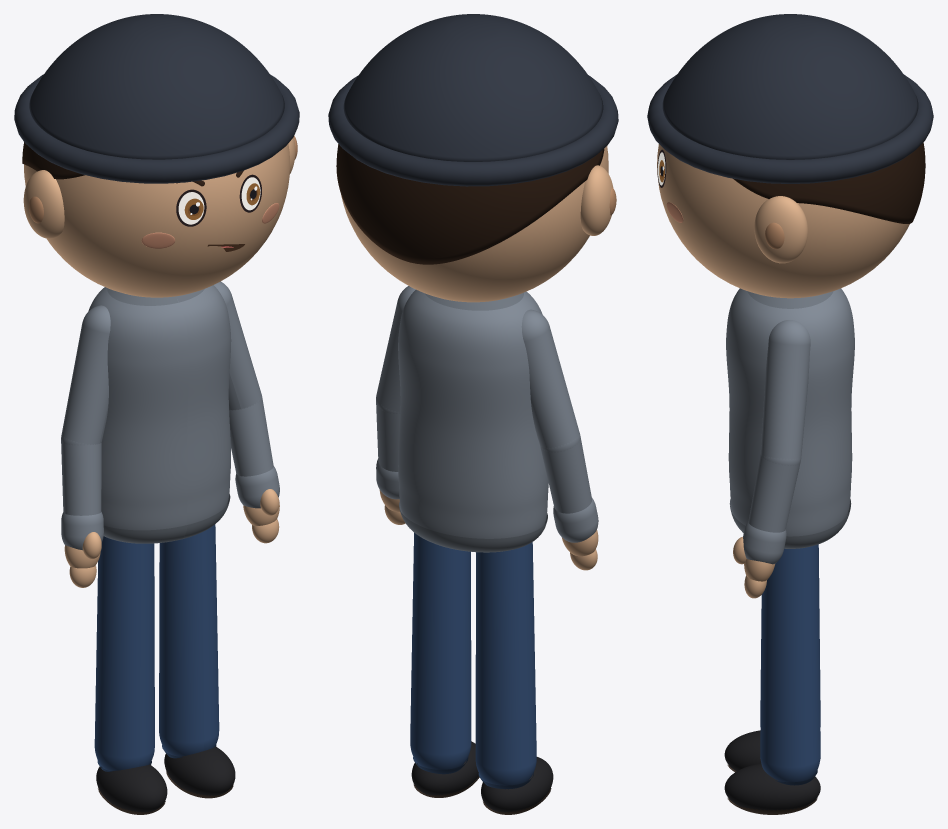
Rendered from volgeling_a.glb.
3 renders of one model, left to right at view 1: azimuth 30°, elevation 25°; view 2: azimuth 150°, elevation 25°; view 3: azimuth 270°, elevation 25°, orthographic.
Parts seen in each view (by area): view 1: volgeling_a_romp, volgeling_a_muts, volgeling_a_hoofd, volgeling_a_been_R, volgeling_a_been_L, volgeling_a_muts_rand, volgeling_a_bovenarm_R, volgeling_a_onderarm_R, volgeling_a_onderarm_L, volgeling_a_schoen_R, volgeling_a_schoen_L, volgeling_a_bovenarm_L (+6 smaller); view 2: volgeling_a_romp, volgeling_a_muts, volgeling_a_haar, volgeling_a_been_R, volgeling_a_been_L, volgeling_a_hoofd, volgeling_a_muts_rand, volgeling_a_bovenarm_R, volgeling_a_onderarm_R, volgeling_a_schoen_R, volgeling_a_romp_boord, volgeling_a_bovenarm_L (+6 smaller); view 3: volgeling_a_muts, volgeling_a_romp, volgeling_a_hoofd, volgeling_a_been_L, volgeling_a_muts_rand, volgeling_a_haar, volgeling_a_bovenarm_L, volgeling_a_schoen_L, volgeling_a_onderarm_L, volgeling_a_oor_L, volgeling_a_manchet_L, volgeling_a_schoen_R (+3 smaller).
Part boxes in pixels (x1,y1,x2,y2): volgeling_a_romp: [88, 285, 231, 530]; volgeling_a_muts: [29, 14, 284, 159]; volgeling_a_hoofd: [24, 144, 289, 297]; volgeling_a_been_R: [94, 536, 154, 770]; volgeling_a_been_L: [159, 524, 219, 756]; volgeling_a_muts_rand: [14, 74, 299, 183]; volgeling_a_bovenarm_R: [61, 305, 110, 444]; volgeling_a_onderarm_R: [61, 439, 101, 515]; volgeling_a_onderarm_L: [229, 398, 273, 476]; volgeling_a_schoen_R: [96, 764, 167, 812]; volgeling_a_schoen_L: [164, 746, 235, 795]; volgeling_a_bovenarm_L: [214, 281, 261, 410]; volgeling_a_romp: [398, 289, 548, 538]; volgeling_a_muts: [343, 14, 603, 161]; volgeling_a_haar: [336, 144, 604, 264]; volgeling_a_been_R: [475, 542, 536, 785]; volgeling_a_been_L: [410, 532, 471, 769]; volgeling_a_hoofd: [341, 146, 608, 302]; volgeling_a_muts_rand: [328, 75, 618, 186]; volgeling_a_bovenarm_R: [521, 309, 579, 451]; volgeling_a_onderarm_R: [540, 437, 591, 513]; volgeling_a_schoen_R: [481, 757, 553, 812]; volgeling_a_romp_boord: [399, 501, 547, 552]; volgeling_a_bovenarm_L: [376, 286, 415, 412]; volgeling_a_muts: [662, 14, 918, 159]; volgeling_a_romp: [726, 288, 854, 536]; volgeling_a_hoofd: [657, 144, 909, 298]; volgeling_a_been_L: [760, 544, 820, 782]; volgeling_a_muts_rand: [647, 74, 933, 183]; volgeling_a_haar: [733, 142, 925, 223]; volgeling_a_bovenarm_L: [760, 320, 810, 465]; volgeling_a_schoen_L: [724, 763, 820, 810]; volgeling_a_onderarm_L: [748, 454, 800, 532]; volgeling_a_oor_L: [754, 196, 807, 263]; volgeling_a_manchet_L: [743, 521, 786, 564]; volgeling_a_schoen_R: [724, 730, 761, 771].
Size of the model in its own units: 0.6542 by 1.81 by 0.6118.
